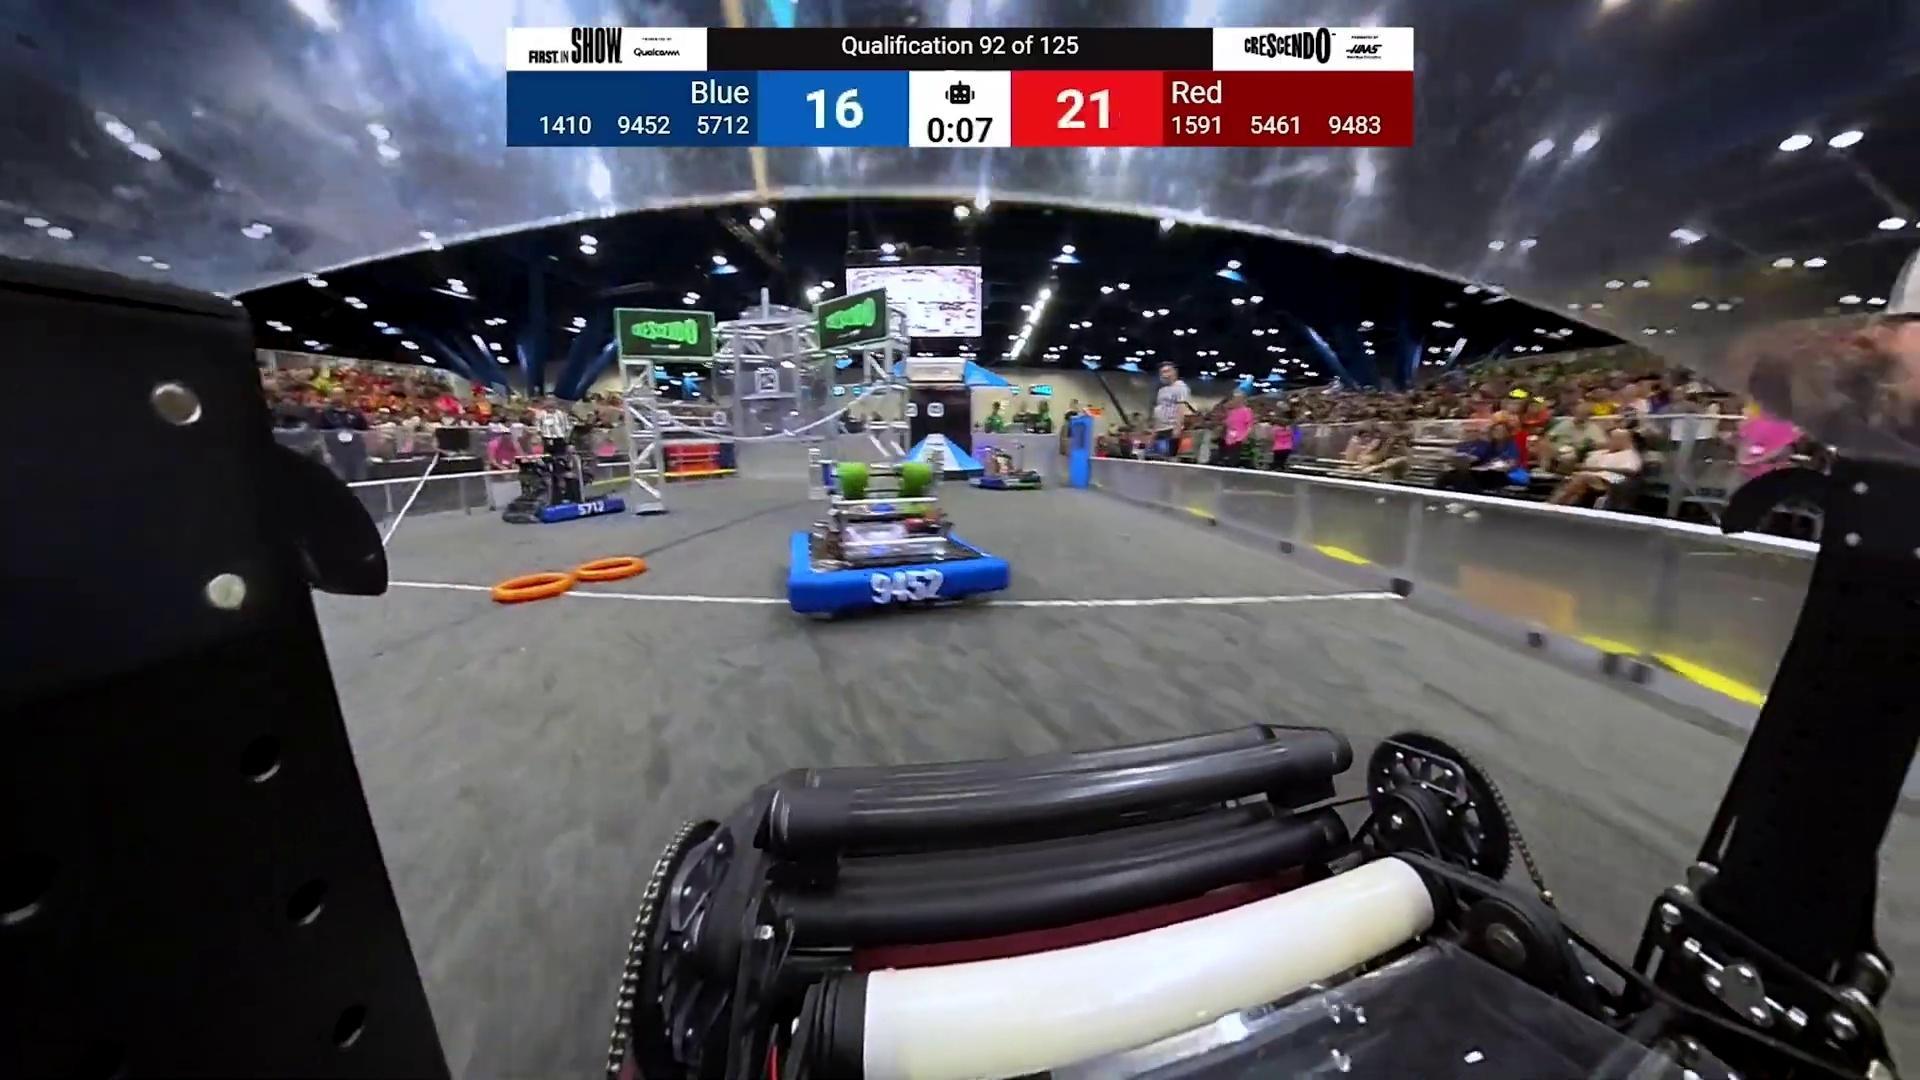robot: (789, 447, 1009, 617), (504, 454, 624, 524), (968, 447, 1043, 491)
